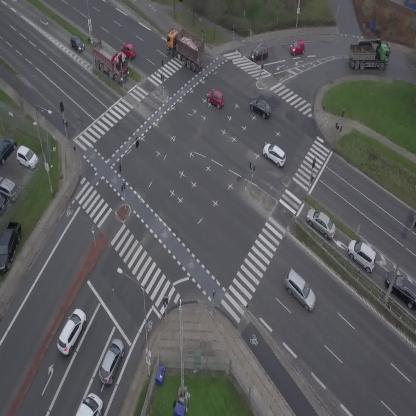car: (278, 268, 323, 313), (52, 306, 90, 357), (94, 336, 128, 387), (342, 235, 383, 274), (301, 204, 341, 242), (259, 140, 290, 168), (247, 95, 275, 120), (204, 86, 228, 109), (65, 33, 86, 55), (120, 41, 139, 60), (249, 45, 269, 60), (289, 40, 306, 56)
lorry: (157, 23, 213, 74), (83, 35, 137, 86), (349, 39, 391, 71), (75, 393, 103, 416)
